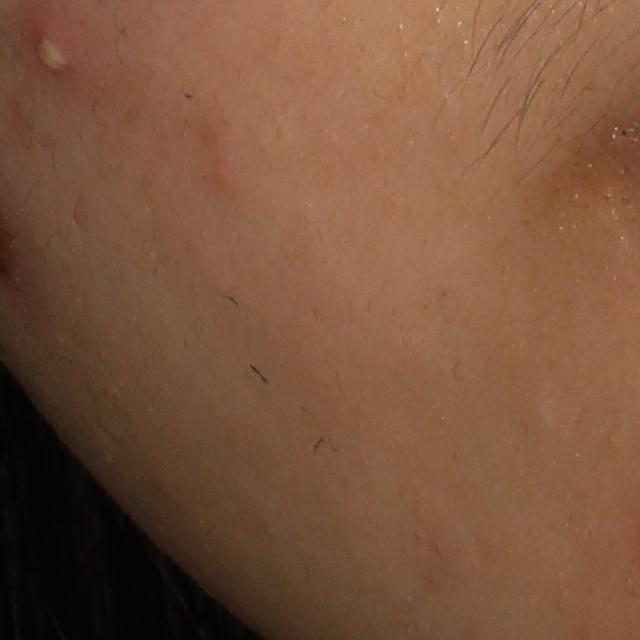papule: (199, 145, 264, 204)
pustule: (25, 16, 77, 78)
